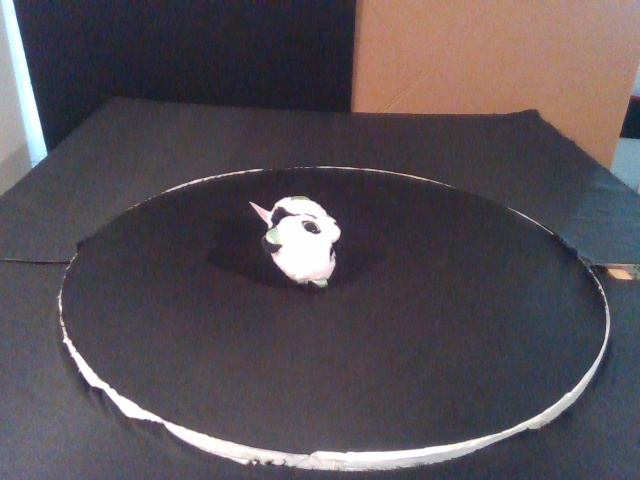teddy_bear: (250, 195, 342, 289)
